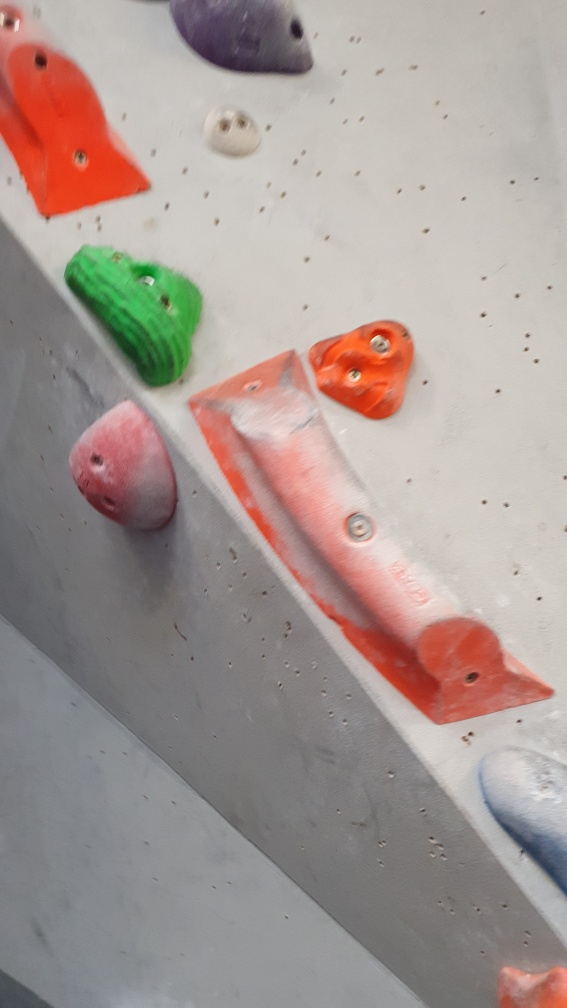Jug: (64, 235, 204, 386)
Pinch: (189, 346, 558, 727), (1, 1, 154, 228), (478, 737, 567, 893)
Sloper: (66, 400, 177, 537)
